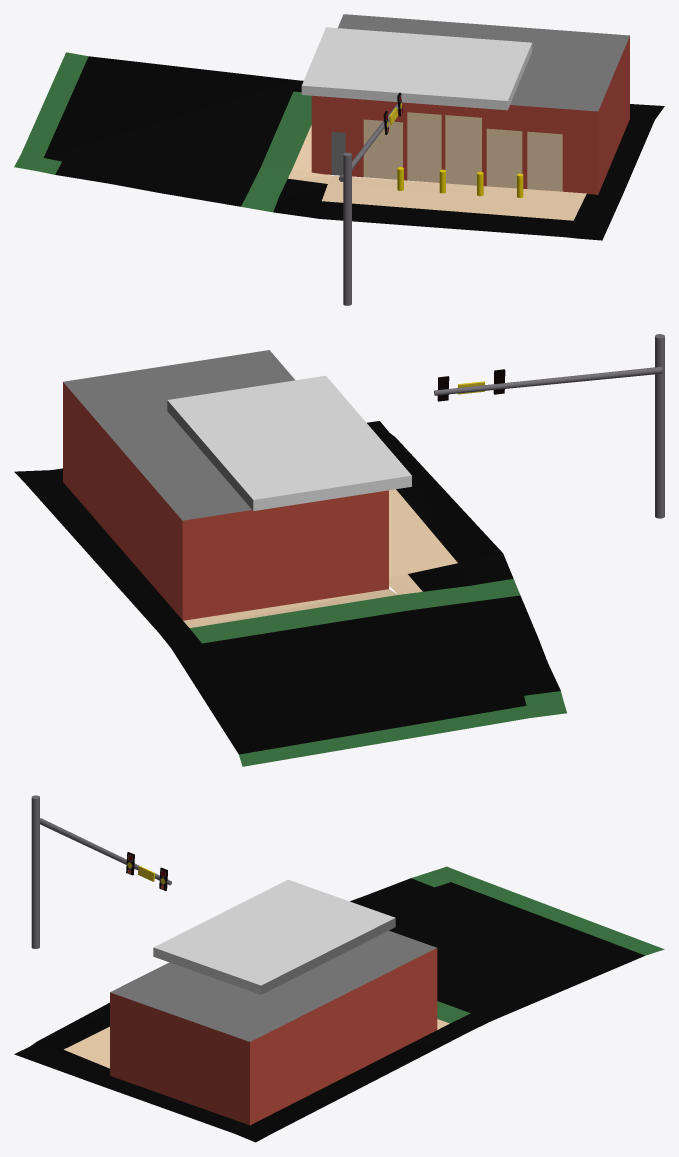
Rendered from isofirehouse.glb.
3 renders of one model, top to bottom at view 1: azimuth 30°, elevation 25°; view 2: azimuth 150°, elevation 25°; view 3: azimuth 270°, elevation 25°, orthographic. The views are drawn at different scales.
Parts seen in each view (by area): view 1: Cylinder.003; view 2: Cylinder.003; view 3: Cylinder.003.
Boxes of the visible parts, x1,y1,x2,y2 form: Cylinder.003: (14, 14, 664, 305); Cylinder.003: (14, 334, 664, 766); Cylinder.003: (14, 795, 664, 1142).
Size of the model in its own units: 1.1 by 0.2846 by 1.12.
